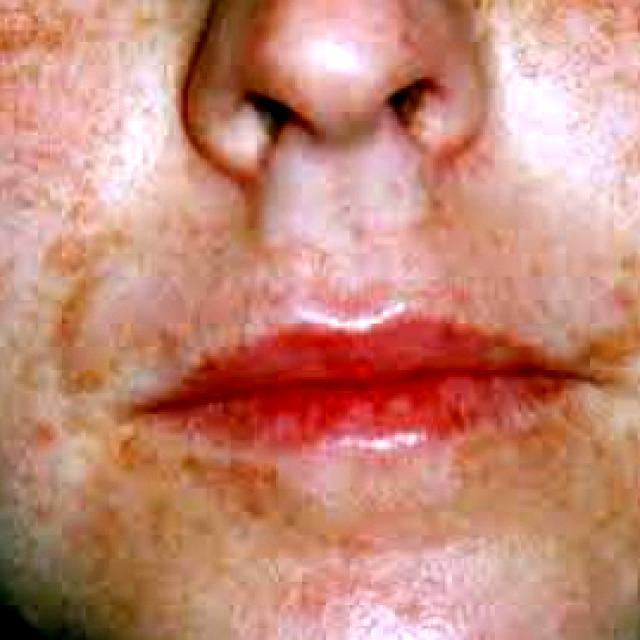Melasma: (23, 114, 640, 621)
